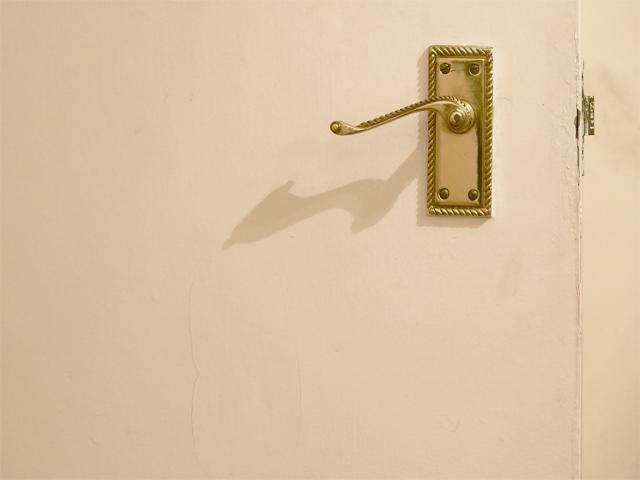Door-handle: (328, 41, 496, 221)
